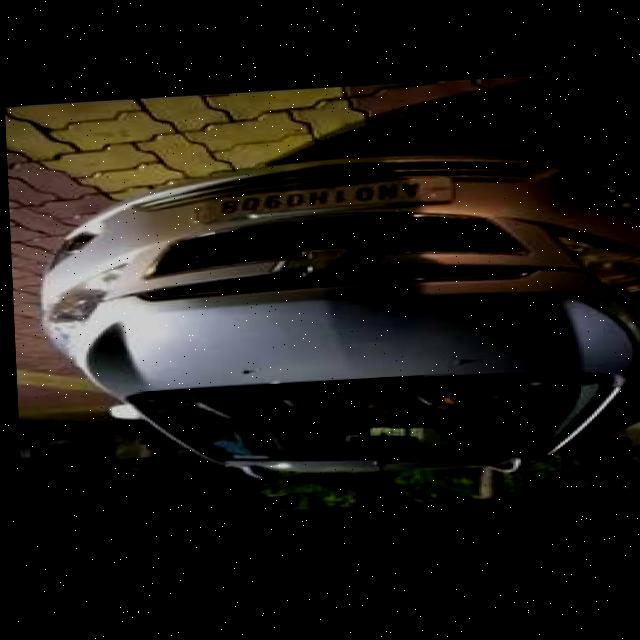plate: (199, 178, 456, 227)
